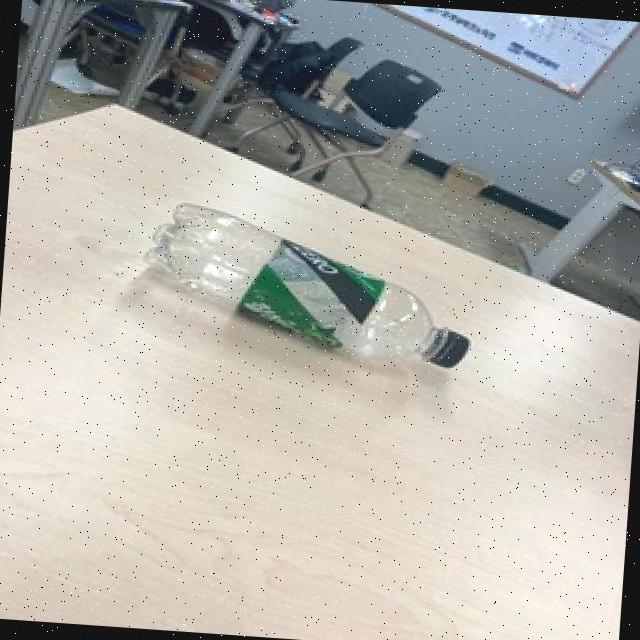bottle: (131, 188, 484, 388)
cap: (427, 324, 472, 374)
label: (235, 221, 381, 358)
